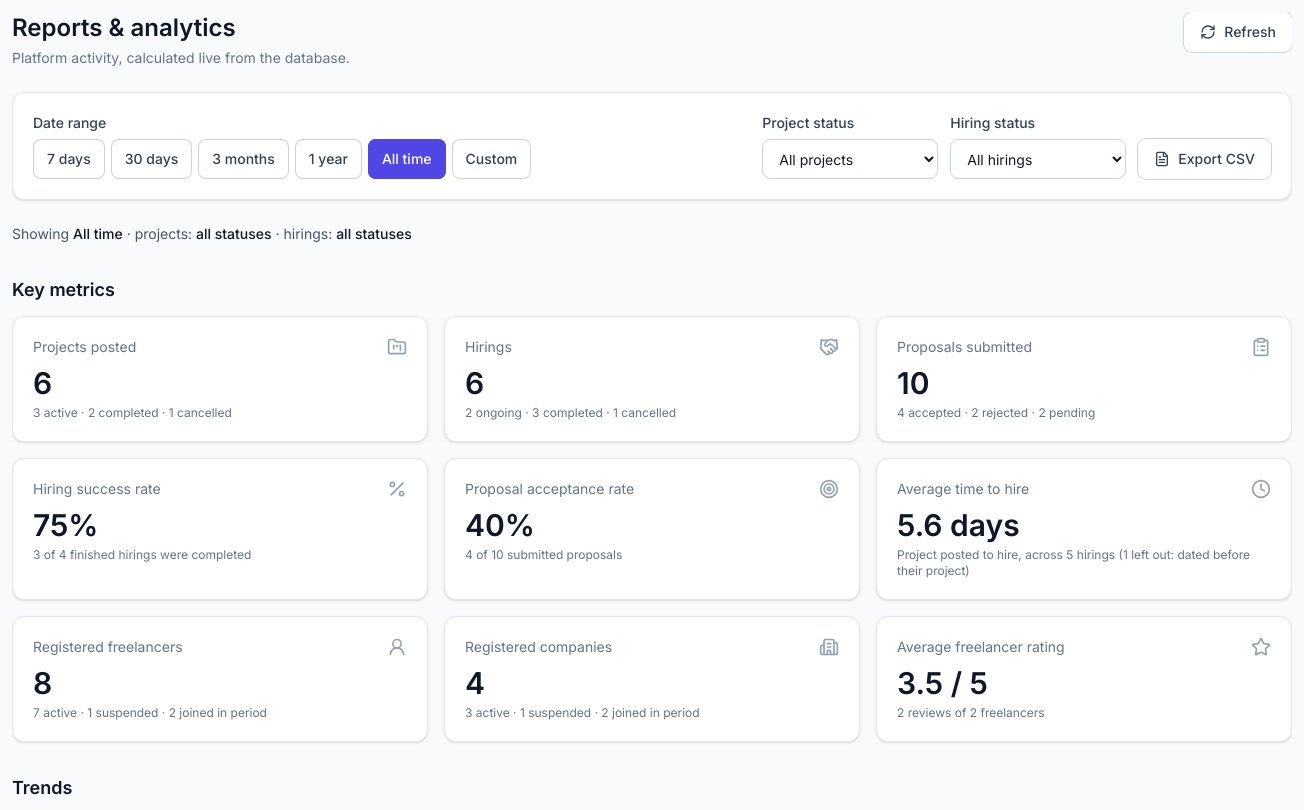
Test case: the page › three quick changes answered out of order (newest, oldest, middle) still end on the newest
The image size is (1304, 810).
expect the element with test id "applied-filters" is shown: met, box [12,225,412,242]
Click the button "7 days": [69, 159] box [33,139,105,179]
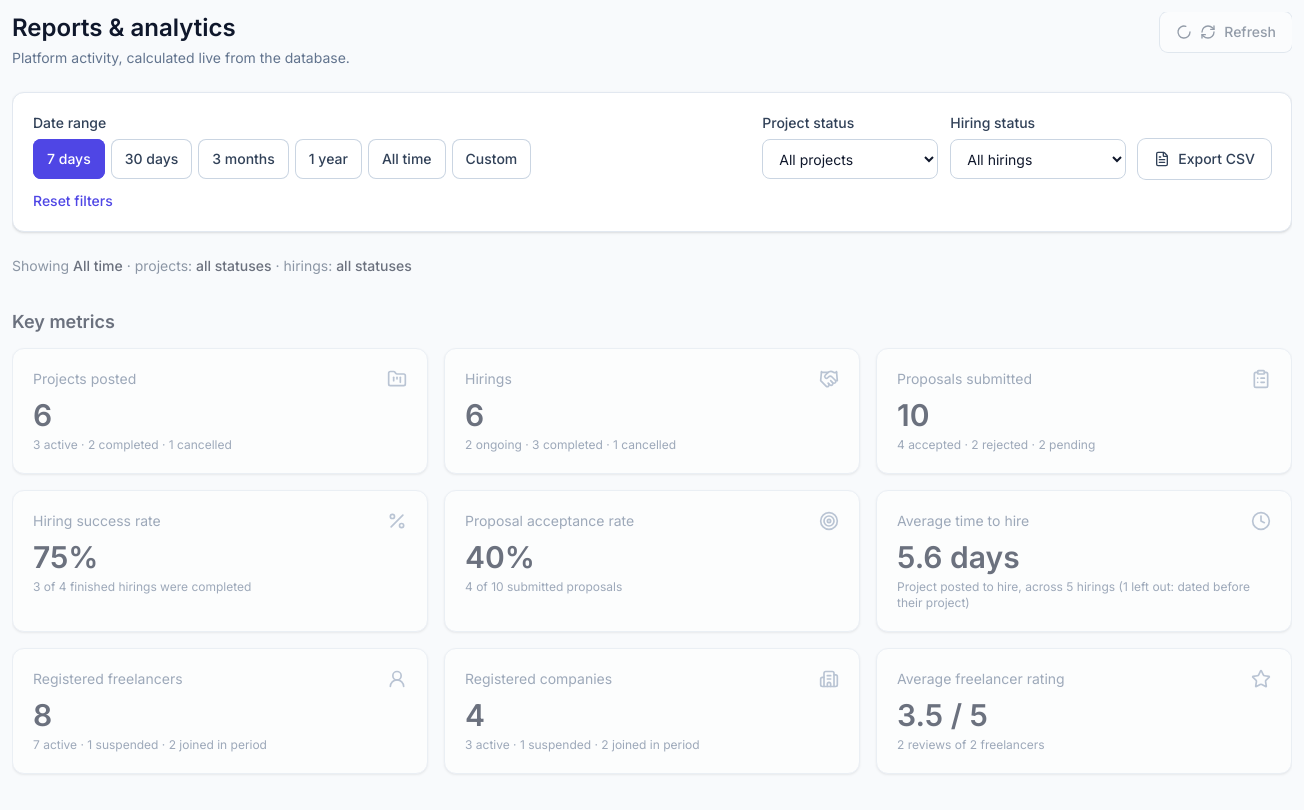
Click the button "30 days": [151, 159] box [111,139,192,179]
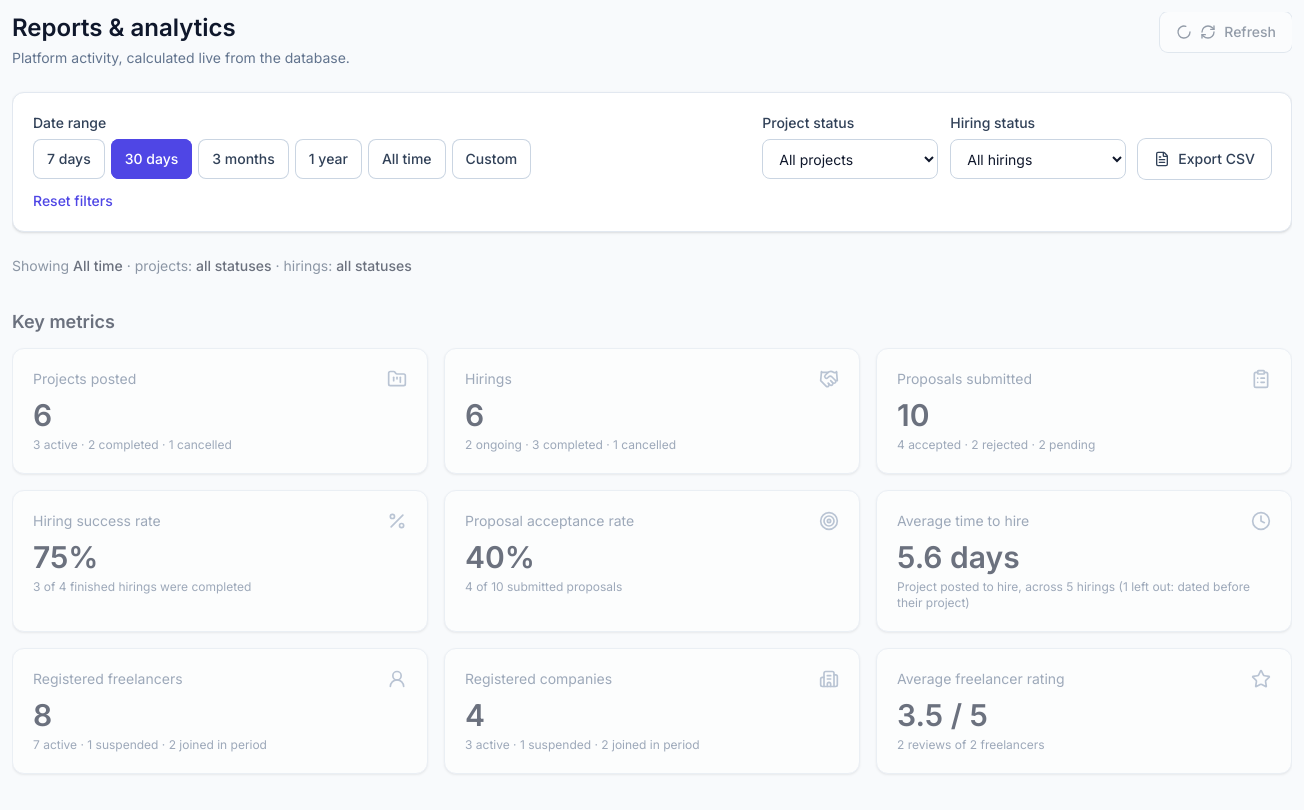
Click the button "3 months": [244, 159] box [198,139,289,179]
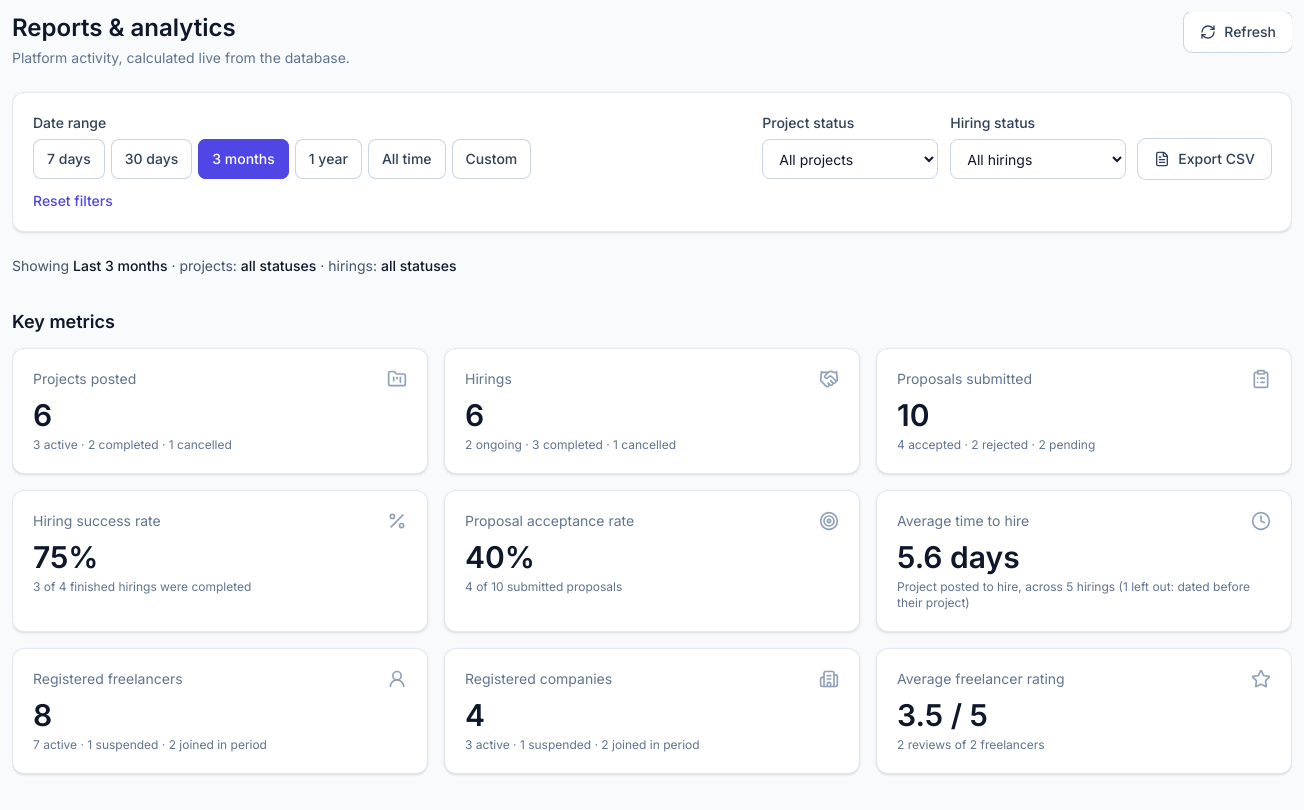
expect the element with test id "applied-filters" shows "Last 3 months": met, box [73,257,168,274]
